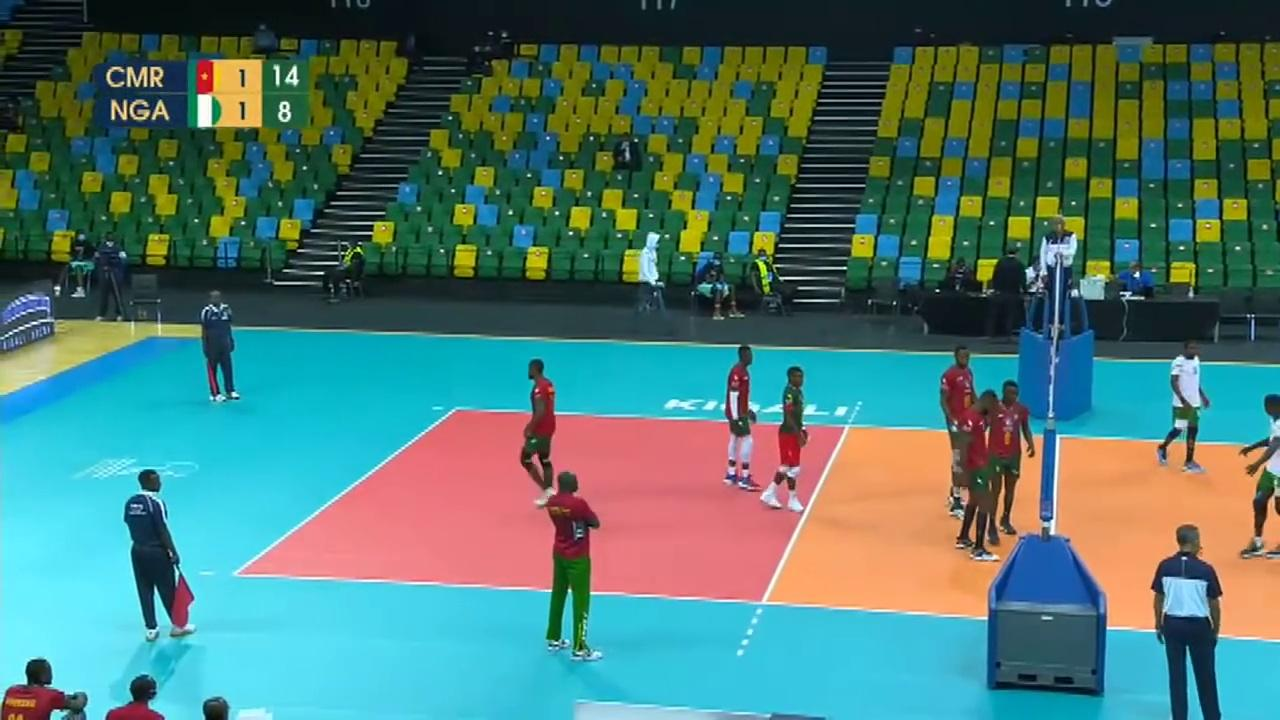player: (953, 386, 1007, 569), (761, 358, 814, 520), (934, 337, 984, 508), (983, 384, 1032, 544), (1157, 344, 1209, 472), (1241, 394, 1280, 555), (723, 348, 761, 489), (520, 362, 557, 495)
refree: (1149, 520, 1229, 720), (121, 467, 198, 645), (1037, 212, 1076, 331), (197, 289, 237, 404)
